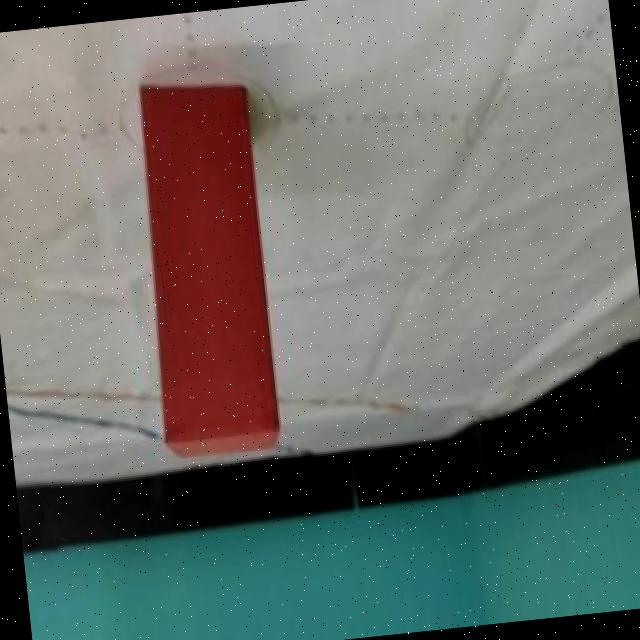redbox: (138, 75, 284, 458)
